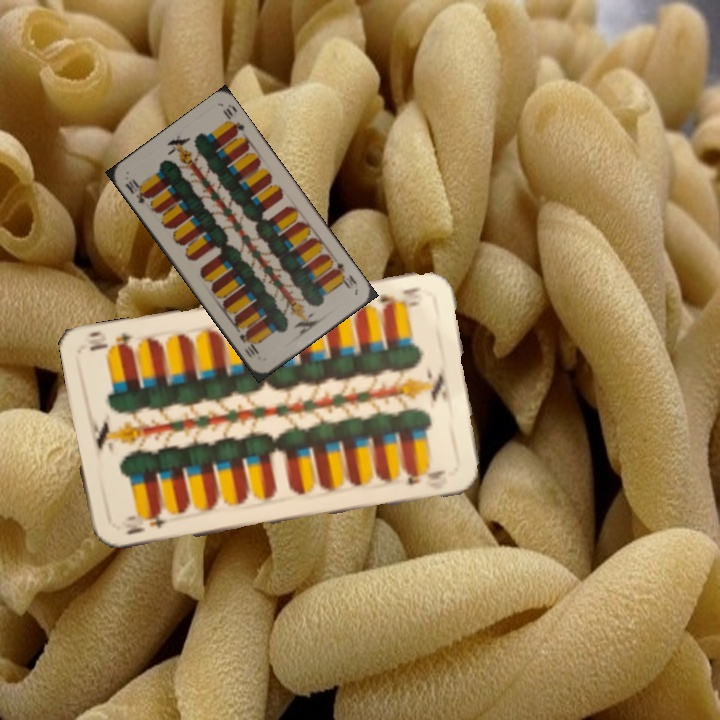E10: (122, 507, 168, 537), (374, 283, 423, 311), (329, 258, 360, 292), (121, 175, 152, 206)
